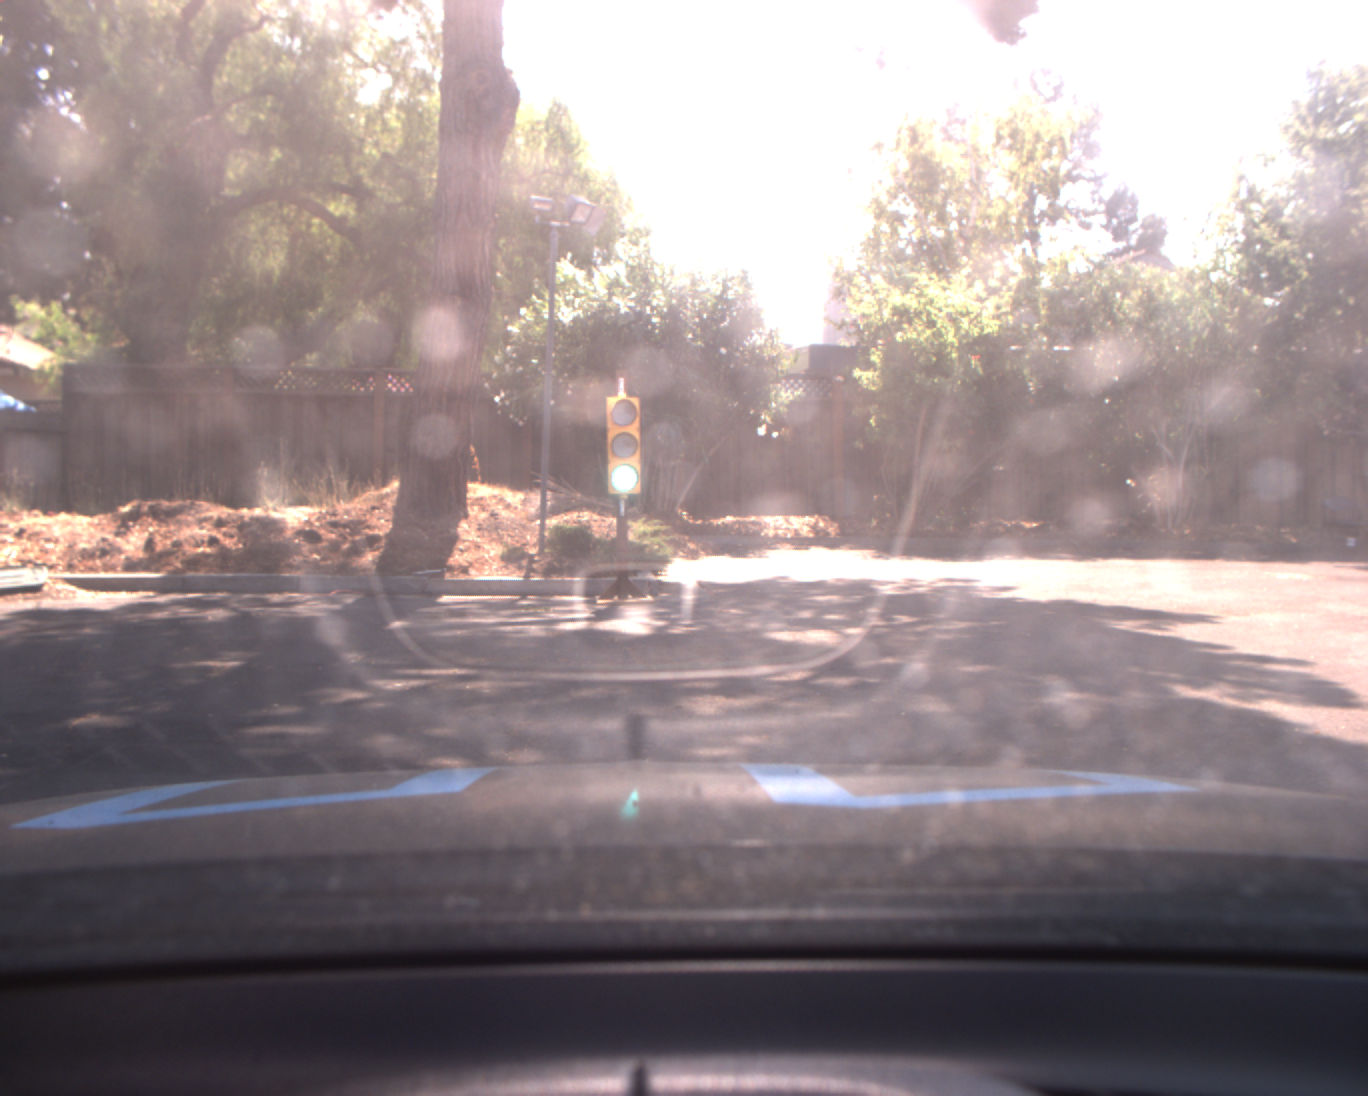green: (602, 390, 644, 499)
